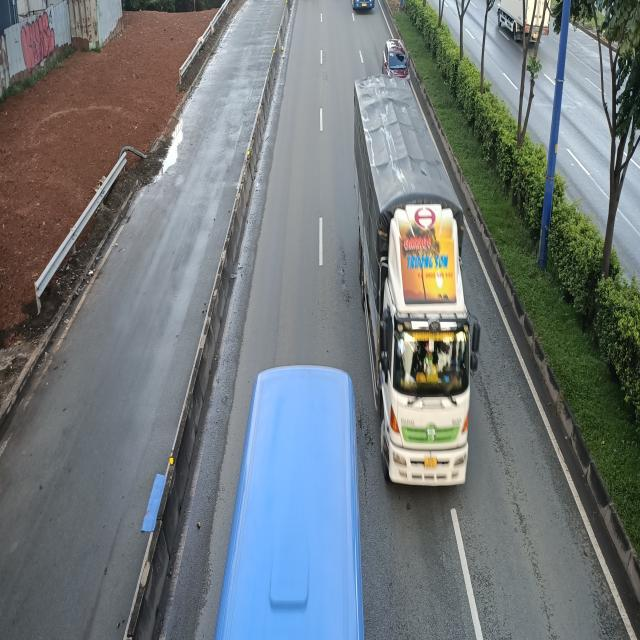coach: (215, 366, 367, 640)
truck: (353, 75, 483, 489)
